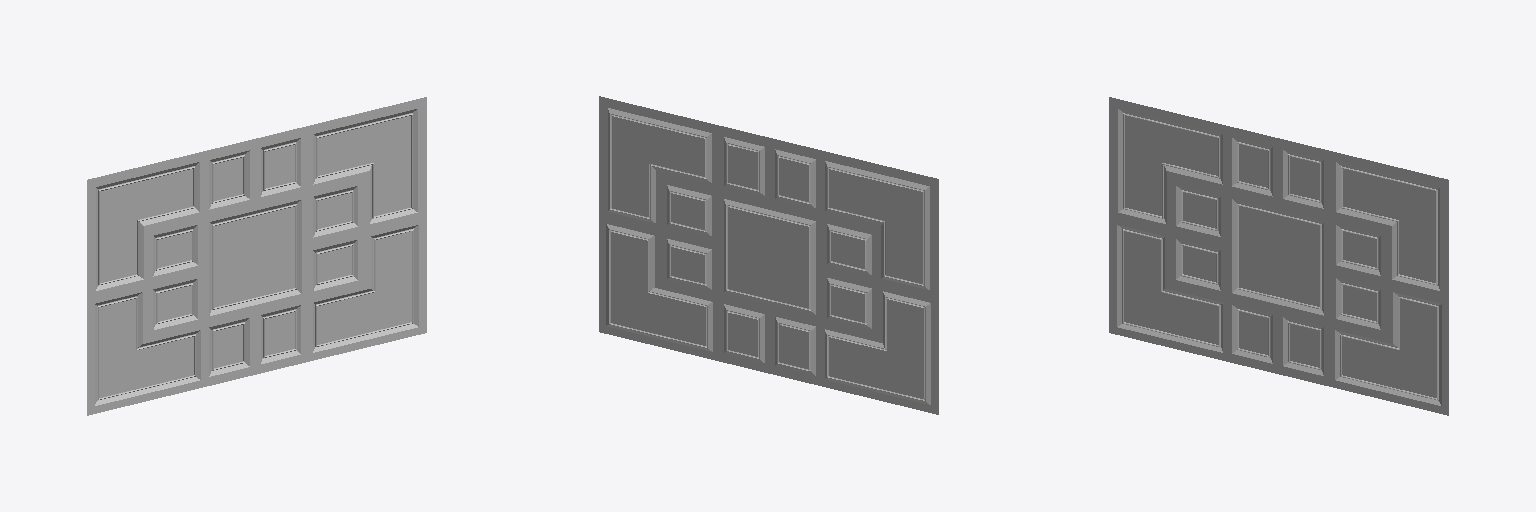
Rendered from Template.002.obj.
The picture shows the model from 3 angles: view 1: azimuth 30°, elevation 25°; view 2: azimuth 150°, elevation 25°; view 3: azimuth 330°, elevation 25°; orthographic projection.
Parts seen in each view (by area): view 1: Template.002; view 2: Template.002; view 3: Template.002.
Part boxes in pixels (x1,y1,x2,y2): Template.002: (87, 97, 426, 415); Template.002: (599, 96, 938, 414); Template.002: (1109, 97, 1448, 415).
Bounding box in the file's own units: 1.6 × 1.06 × 0.0105.